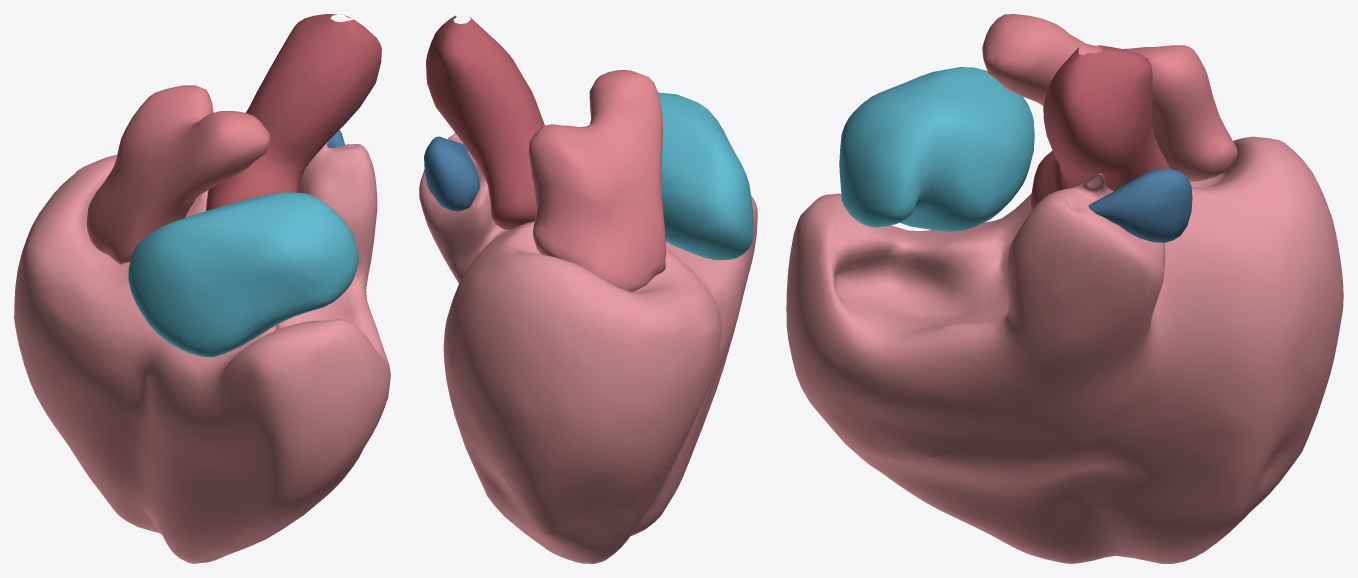
Rendered from frame_49.glb.
The picture shows the model from 3 angles, left to right: view 1: azimuth 30°, elevation 25°; view 2: azimuth 150°, elevation 25°; view 3: azimuth 270°, elevation 25°; orthographic projection. The views are drawn at different scales.
Parts seen in each view (by area): view 1: Renderer Node; view 2: Renderer Node; view 3: Renderer Node.
Part boxes in pixels (x1=…): Renderer Node: x1=14, y1=14, x2=390, y2=563; Renderer Node: x1=419, y1=15, x2=757, y2=563; Renderer Node: x1=786, y1=14, x2=1343, y2=563.
Bounding box in the file's own units: 107 × 164 × 137.
